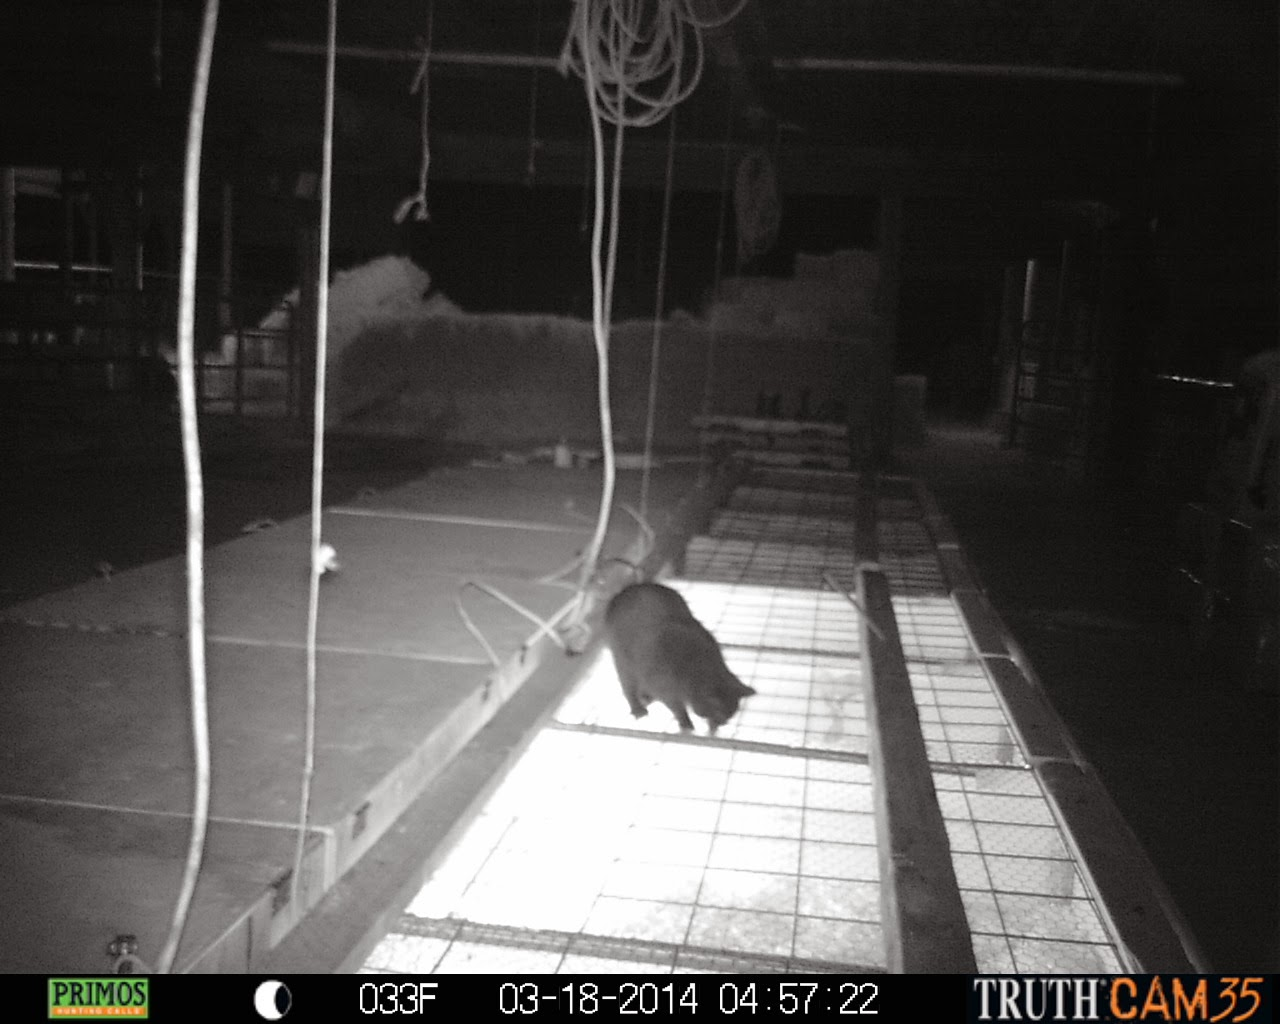house cat: (584, 568, 777, 779)
